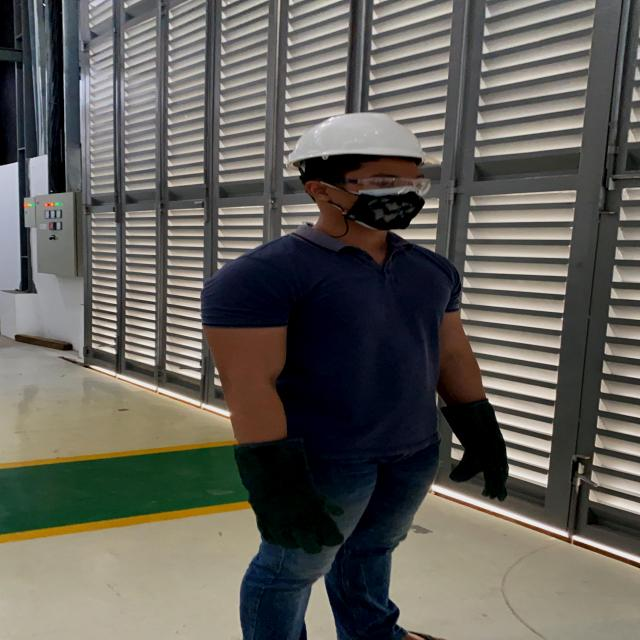face_mask: (330, 168, 436, 229)
glasses: (317, 174, 436, 197)
hand_glove: (223, 473, 365, 556), (435, 429, 530, 503)
head_helmet: (283, 112, 435, 167)
person: (179, 102, 491, 640)
